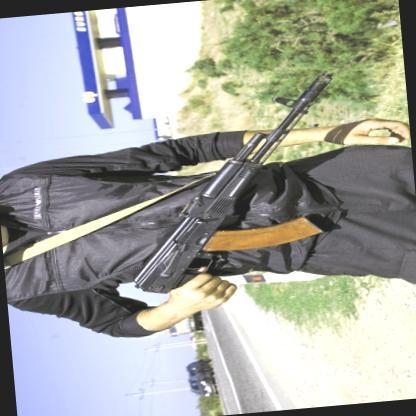rifle: (114, 71, 353, 311)
